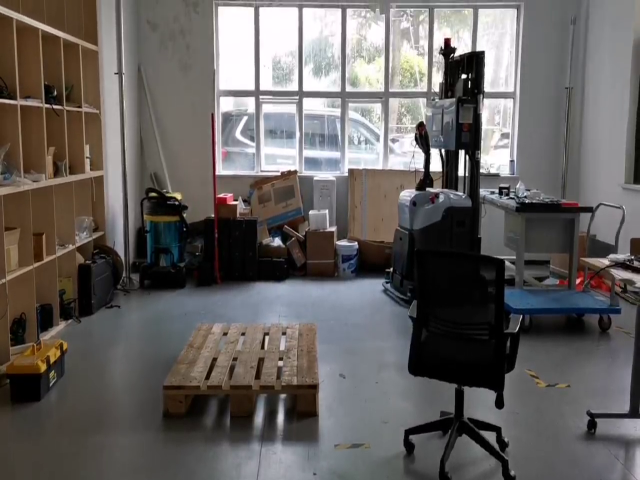block: (292, 385, 321, 417), (160, 387, 192, 413), (231, 384, 255, 417)
front: (161, 380, 324, 419)
hole pallet: (186, 393, 227, 417), (253, 394, 292, 412)
